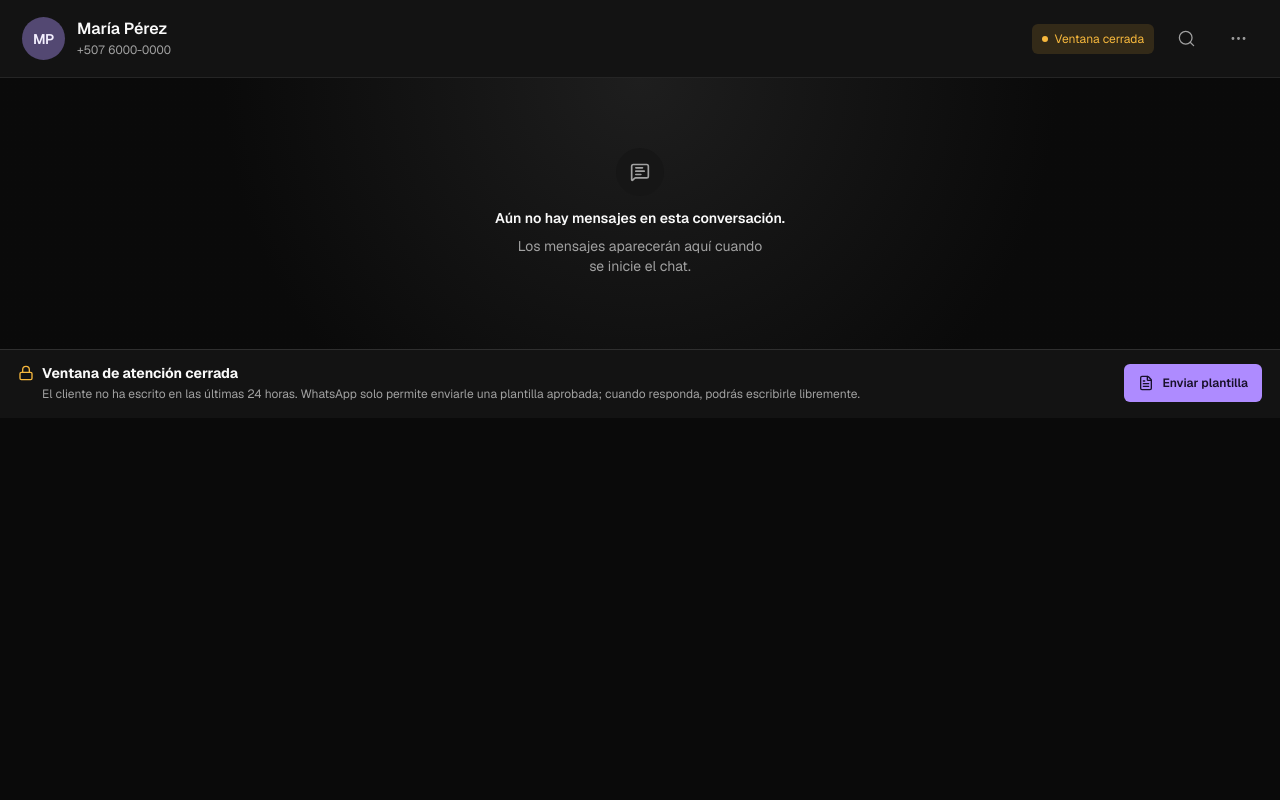
Test: ChatWorkspace › lists no template when none is approved and linked
Click the button "Enviar plantilla": (1193, 383) top-left (1124, 364), bottom-right (1262, 402)
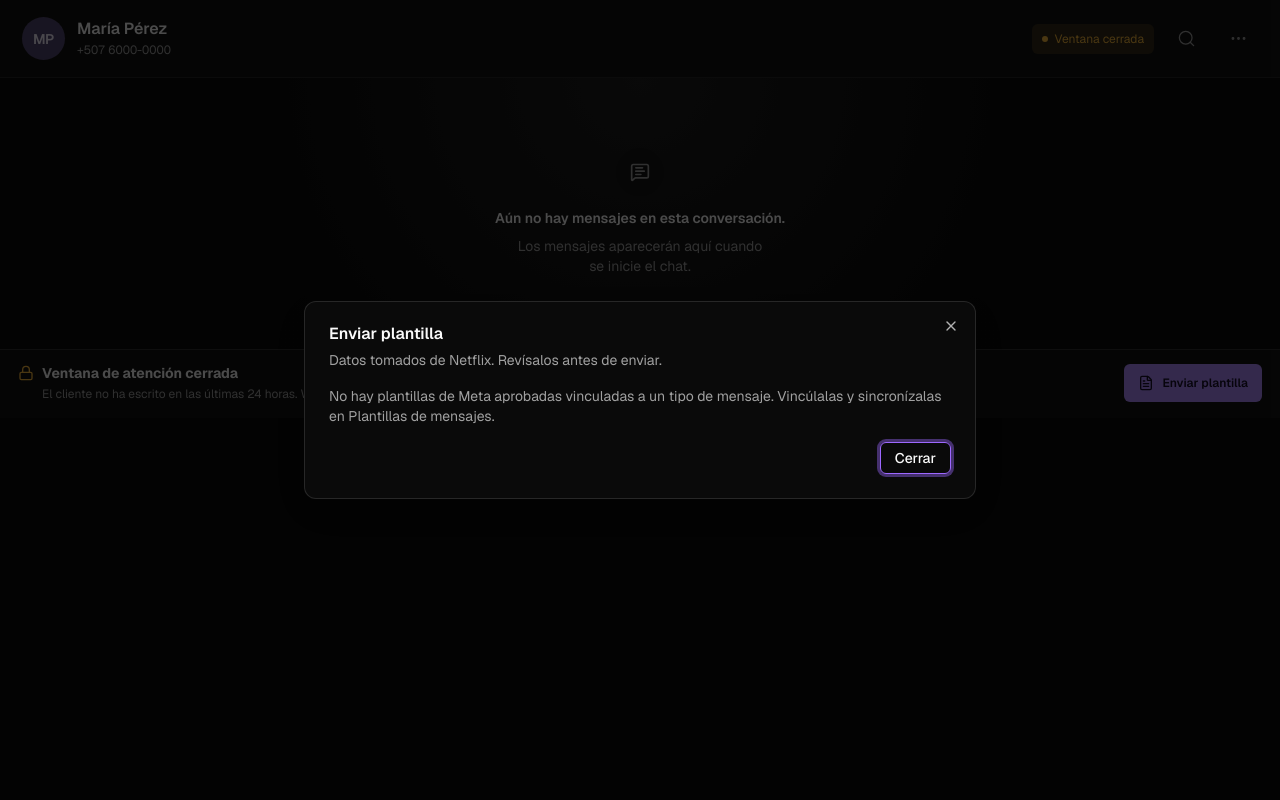
Check: the text "No hay plantillas de Meta aprobadas" is shown, box top-left (329, 387), bottom-right (941, 425)
